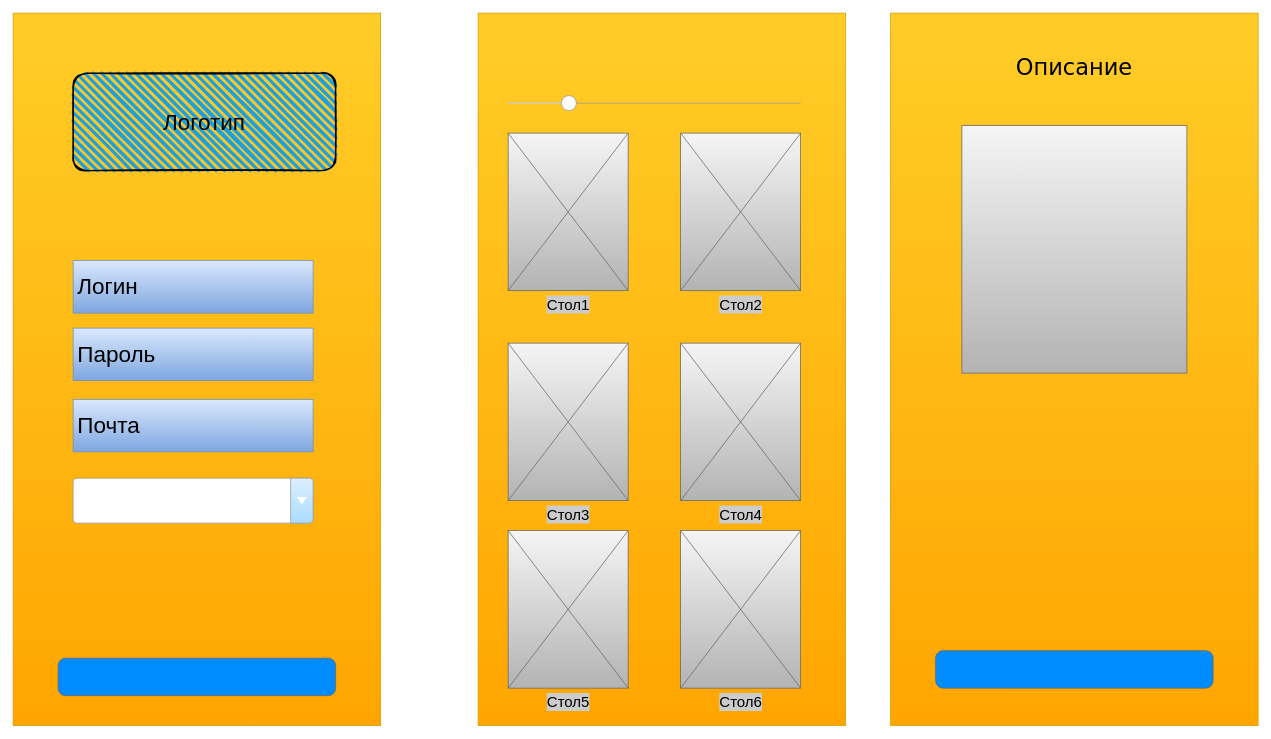
Image size: 1271x739. Some labels were removed from this diagram. Here are the shapes that lost their labels. From the top down, the box of each, then its label:
(961, 125, 1187, 373): Информация о выбранном столе, дате заказа.
(477, 12, 846, 726): Выберите стол
(72, 477, 313, 523): Дата
(57, 657, 336, 696): Вход
(935, 650, 1213, 688): Подтвердить
